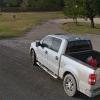Car: (23, 28, 100, 97)
